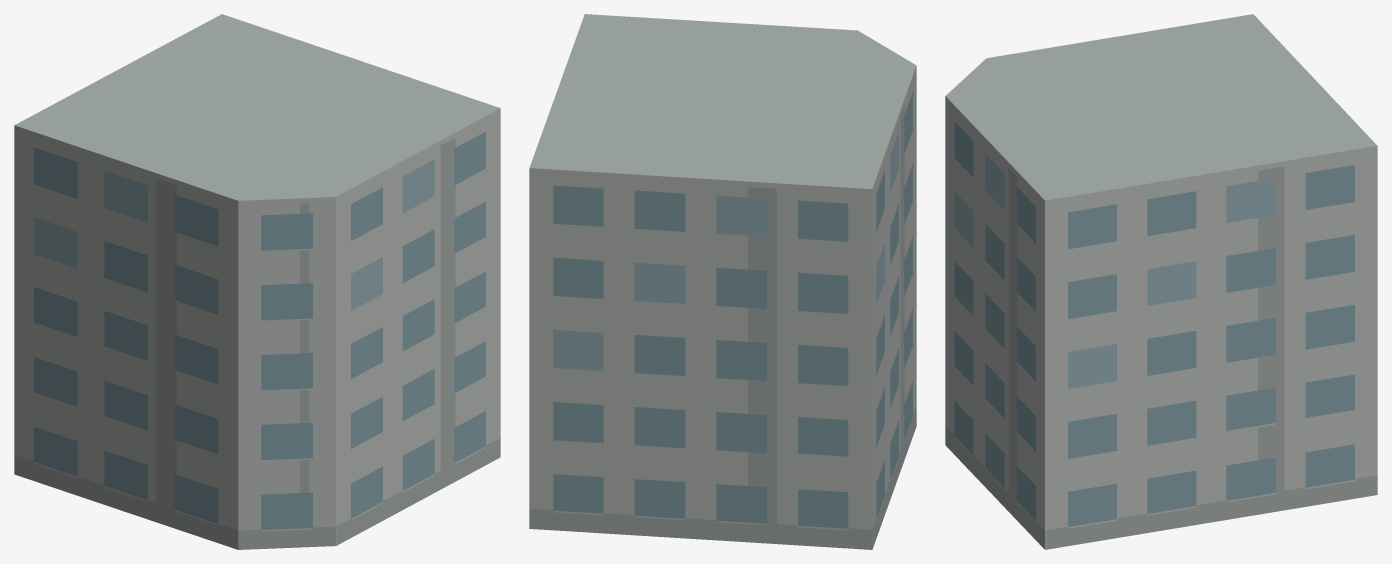
Rendered from survey-upis-32851960.glb.
3 renders of one model, left to right at view 1: azimuth 30°, elevation 25°; view 2: azimuth 150°, elevation 25°; view 3: azimuth 270°, elevation 25°, orthographic. The views are drawn at different scales.
Visible parts, largest first — view 1: survey-upis-32851960.tmp; view 2: survey-upis-32851960.tmp; view 3: survey-upis-32851960.tmp.
Boxes of the visible parts, x1=… form: survey-upis-32851960.tmp: x1=14, y1=14, x2=500, y2=549; survey-upis-32851960.tmp: x1=529, y1=14, x2=916, y2=549; survey-upis-32851960.tmp: x1=945, y1=14, x2=1377, y2=549.
Size of the model in its own units: 18.81 by 16.4 by 18.4.
